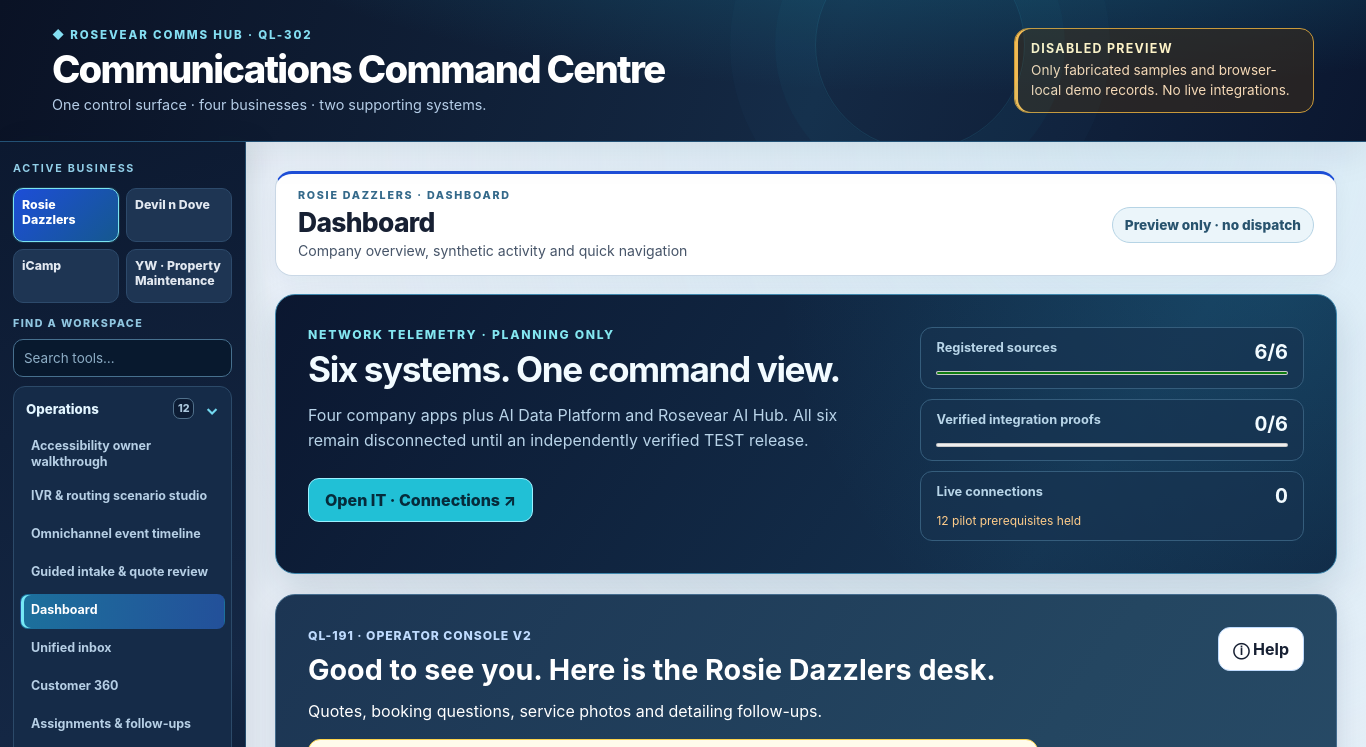
Test case: QL-191 operator console › switches to iCamp without exposing Rosie/Devil queue items or offering real tenant access
Click the button "iCamp".
click(66, 276)  # box x1=13 y1=249 x2=119 y2=303
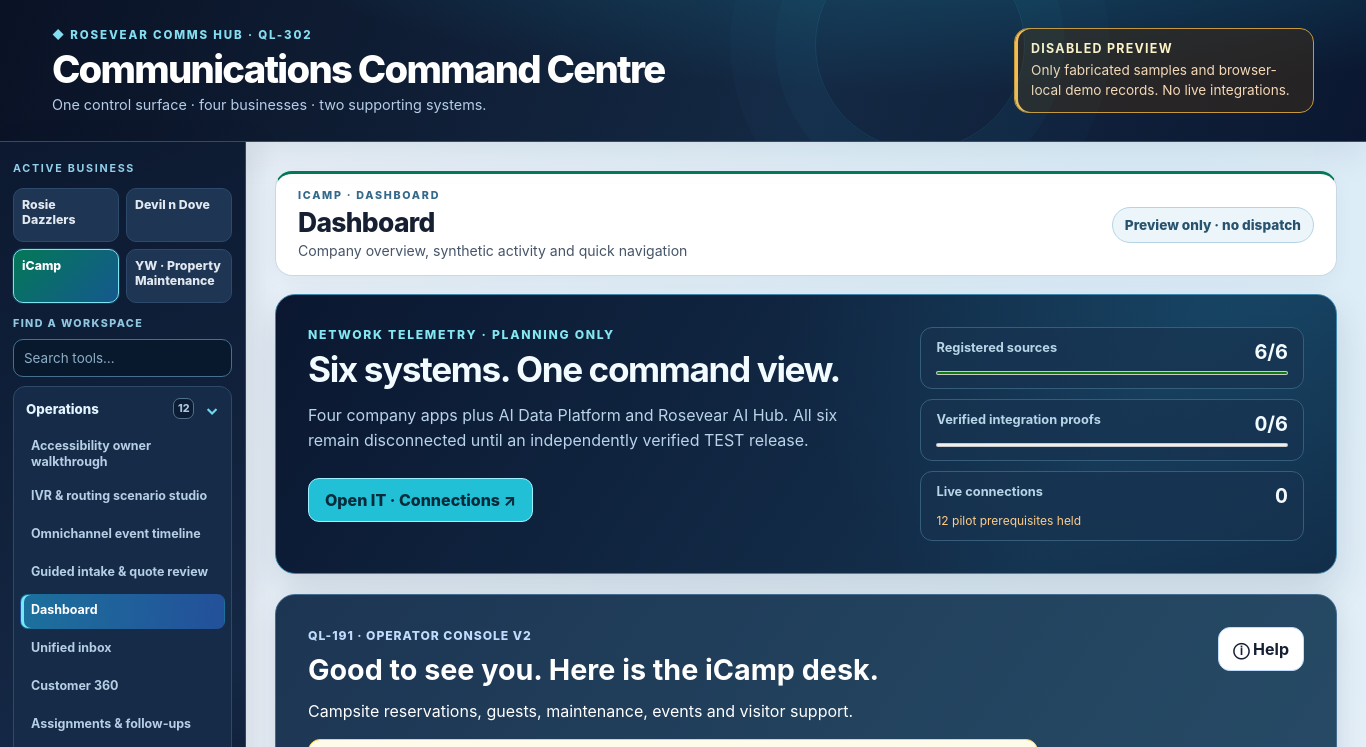
Check: the element that starts with "iCamp" is shown, box x1=298 y1=189 x2=343 y2=202
